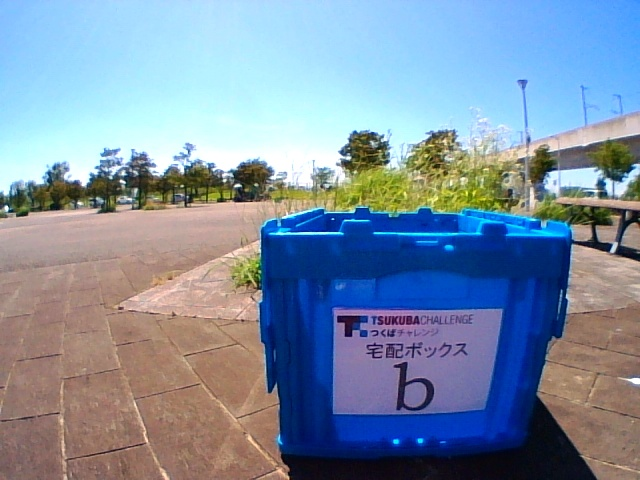blue_box: (281, 212, 525, 452)
tag_b: (334, 310, 488, 412)
